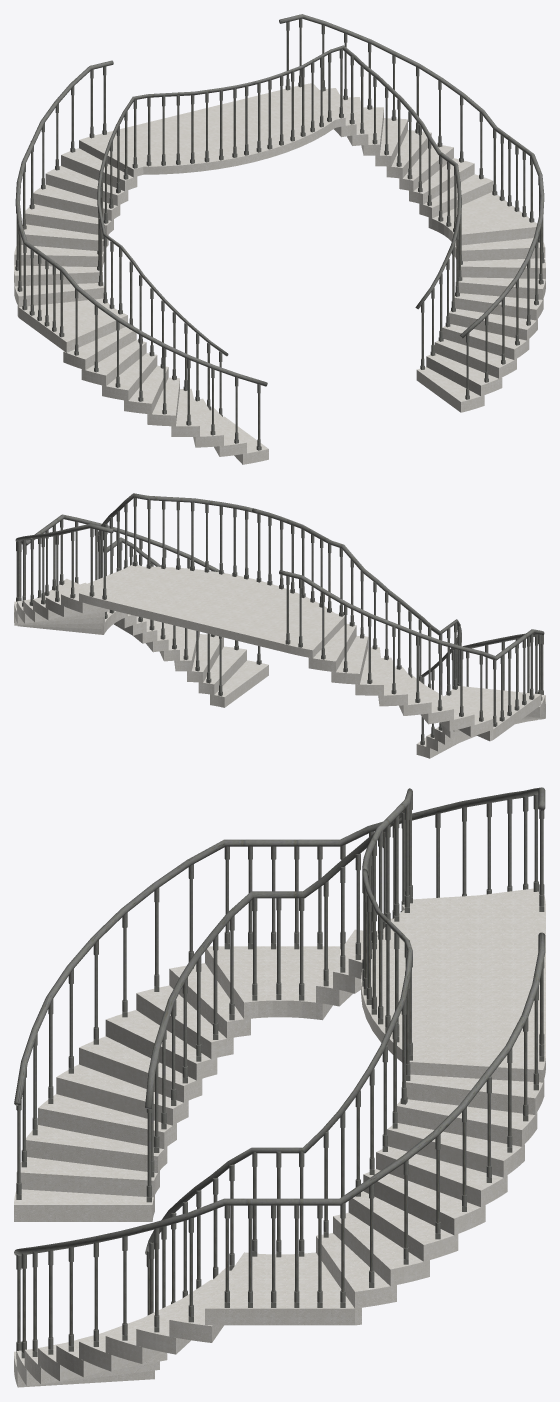
3 views of the same model, one above another, from view 1: azimuth 30°, elevation 25°; view 2: azimuth 150°, elevation 25°; view 3: azimuth 270°, elevation 25° (orthographic). The views are drawn at different scales.
Parts seen in each view (by area): view 1: Group6, Group9, Group2, Group5, Group8, Group7, Group4; view 2: Group2, Group6, Group9, Group5, Group4, Group8, Group7; view 3: Group9, Group6, Group2, Group8, Group5, Group4, Group7.
Boxes of the visible parts, bbox=[...] form: Group6: bbox=[14, 134, 268, 464]; Group9: bbox=[291, 83, 545, 412]; Group2: bbox=[99, 87, 335, 174]; Group5: bbox=[15, 60, 267, 386]; Group8: bbox=[279, 14, 544, 338]; Group7: bbox=[253, 45, 461, 309]; Group4: bbox=[97, 81, 253, 356]; Group2: bbox=[99, 566, 334, 653]; Group6: bbox=[291, 613, 545, 758]; Group9: bbox=[14, 564, 268, 707]; Group5: bbox=[279, 570, 544, 660]; Group4: bbox=[252, 508, 461, 677]; Group8: bbox=[15, 514, 224, 573]; Group7: bbox=[97, 493, 252, 566]; Group9: bbox=[14, 1054, 545, 1387]; Group6: bbox=[14, 888, 545, 1221]; Group2: bbox=[361, 907, 545, 1062]; Group8: bbox=[14, 932, 545, 1255]; Group5: bbox=[14, 787, 545, 1105]; Group4: bbox=[145, 788, 412, 1109]; Group7: bbox=[145, 868, 412, 1254].
Size of the model in its own units: 7.45 by 4.07 by 4.6.
2 materials, 2 textured.
